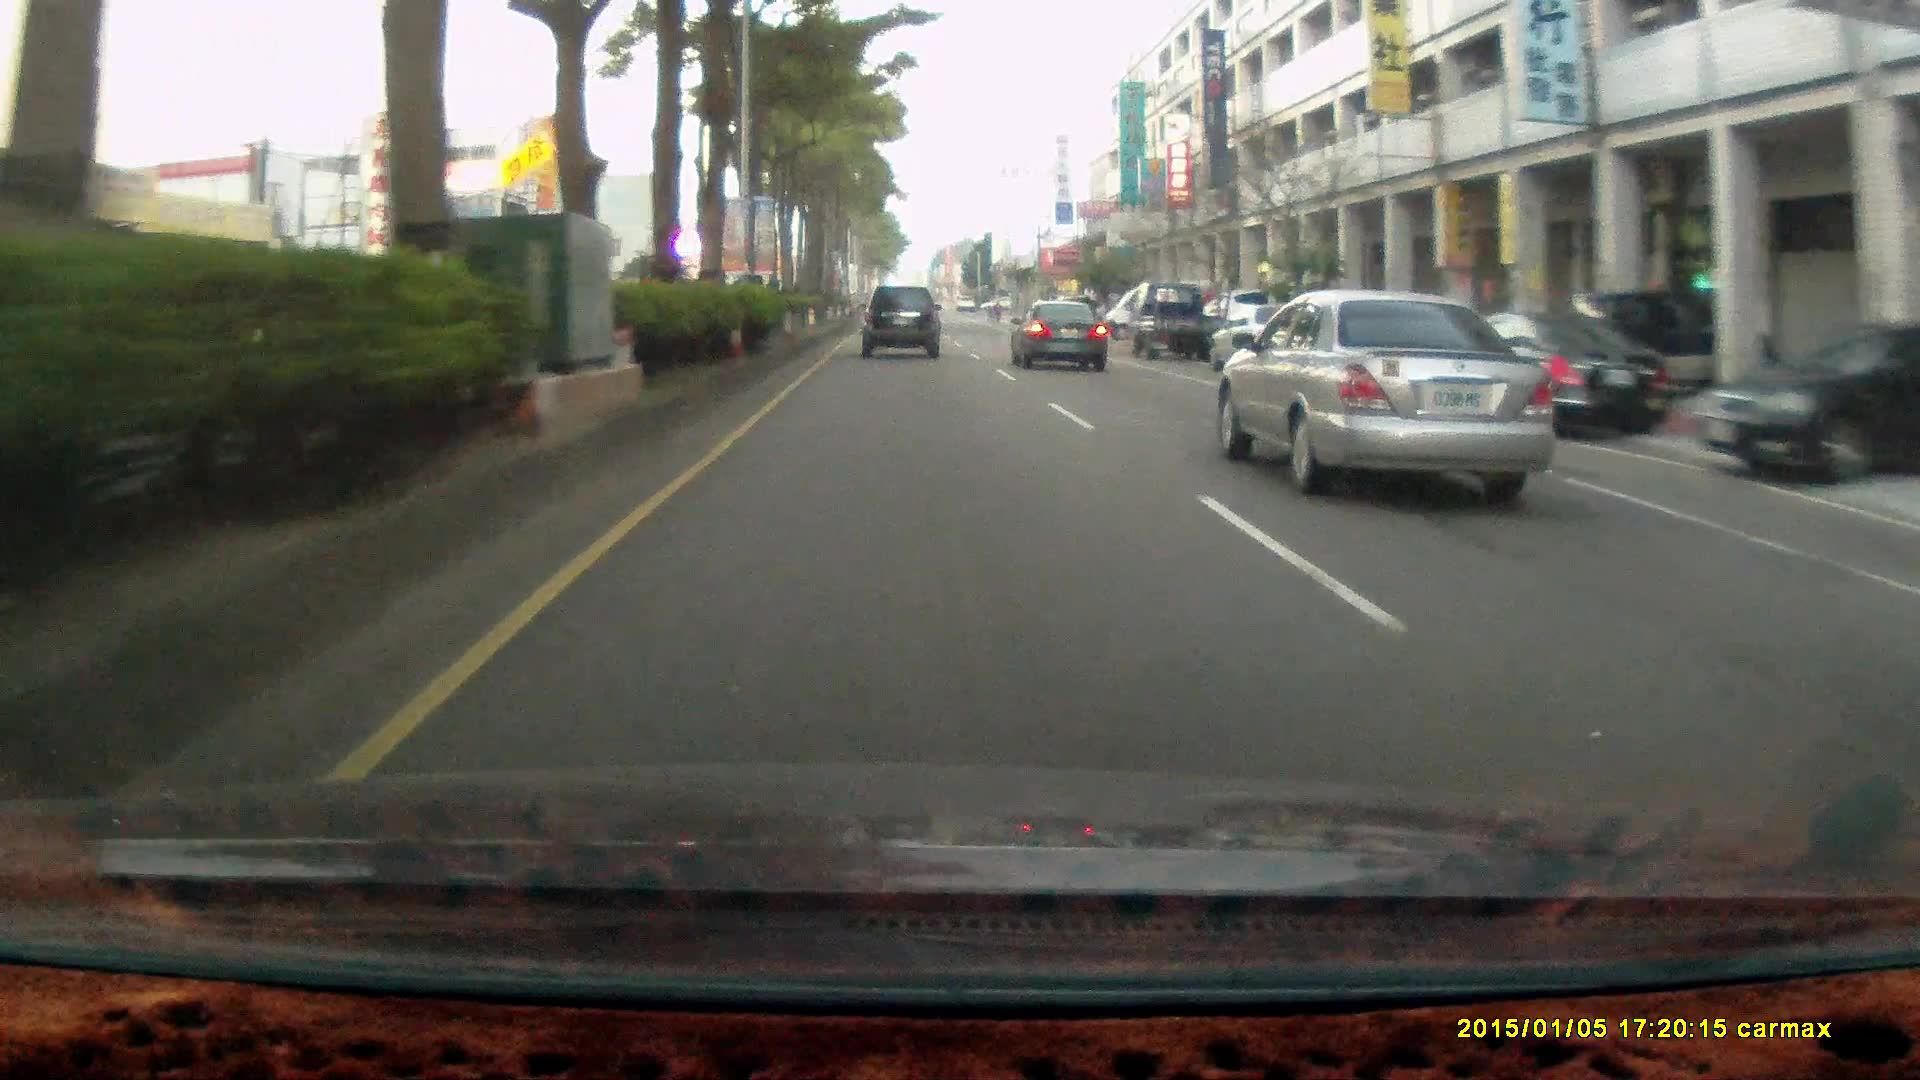vehicle: (1213, 286, 1552, 491), (1696, 318, 1920, 483), (1700, 319, 1919, 488), (1411, 305, 1665, 436), (1205, 301, 1329, 378), (1215, 299, 1338, 377), (1131, 280, 1240, 367), (1127, 277, 1224, 359), (1017, 297, 1116, 369), (1007, 295, 1106, 367), (860, 286, 944, 363), (858, 282, 942, 353)
